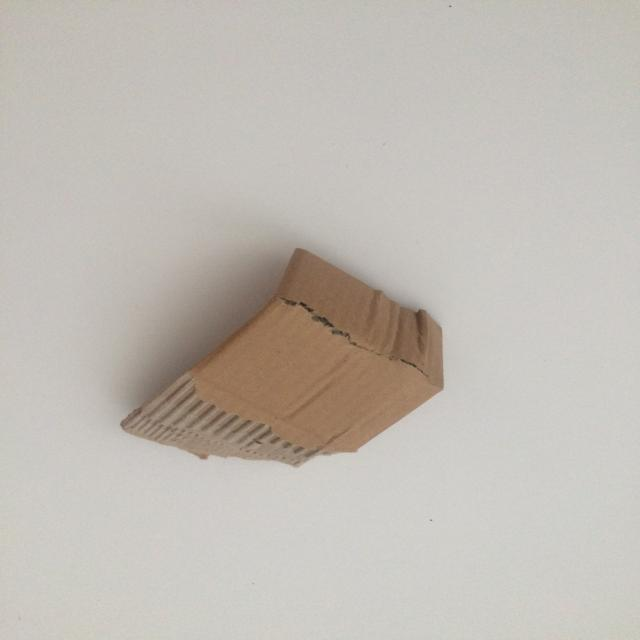cardboard: (120, 246, 445, 467)
